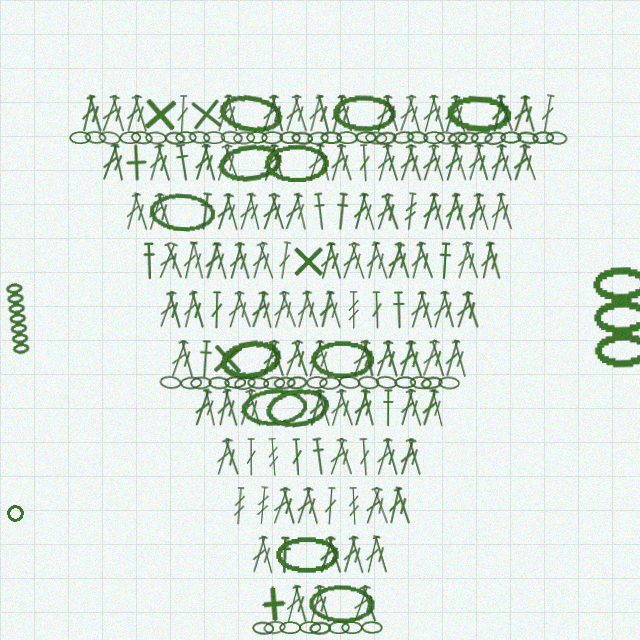chain: (216, 90, 286, 138), (217, 335, 285, 383), (263, 384, 331, 431), (216, 140, 285, 186), (148, 191, 217, 233), (445, 93, 512, 135), (240, 387, 308, 428), (308, 584, 376, 623), (332, 94, 397, 133), (264, 144, 330, 182), (275, 536, 340, 574), (310, 340, 374, 378), (233, 375, 257, 391), (483, 130, 507, 146), (420, 375, 443, 391), (98, 130, 121, 146), (374, 130, 397, 146), (516, 130, 539, 146), (447, 130, 469, 146), (263, 620, 286, 635), (159, 375, 182, 390), (338, 375, 361, 390), (357, 375, 380, 390), (375, 375, 398, 390), (409, 375, 432, 390), (84, 130, 107, 145), (130, 130, 153, 145), (188, 130, 211, 145), (220, 130, 243, 145), (392, 130, 415, 145), (406, 130, 429, 145), (470, 130, 493, 145), (286, 375, 308, 390), (273, 376, 296, 390), (545, 131, 568, 145), (252, 621, 274, 635), (309, 621, 331, 635), (180, 376, 202, 390), (190, 376, 212, 390), (208, 376, 230, 390), (247, 376, 269, 390), (263, 376, 285, 390), (319, 376, 341, 390), (438, 376, 460, 390), (145, 131, 167, 145), (164, 131, 186, 145), (233, 131, 255, 145), (291, 131, 313, 145), (307, 131, 329, 145), (365, 131, 387, 145), (435, 131, 457, 145), (457, 131, 479, 145), (279, 621, 301, 634), (299, 621, 321, 634), (328, 621, 350, 634), (341, 621, 363, 634), (361, 621, 383, 634), (224, 376, 246, 389), (306, 376, 328, 389), (394, 376, 416, 389), (69, 131, 91, 144), (119, 131, 141, 144), (175, 131, 197, 144), (203, 131, 225, 144), (246, 131, 268, 144), (261, 131, 283, 144), (279, 131, 301, 144), (320, 131, 342, 144), (336, 131, 358, 144), (355, 131, 377, 144), (423, 131, 445, 144), (500, 131, 522, 144), (532, 131, 554, 144)
double: (154, 241, 180, 281), (268, 486, 293, 526), (325, 437, 350, 477), (166, 339, 191, 379), (348, 339, 373, 379), (371, 339, 396, 379), (254, 241, 279, 281), (280, 192, 305, 232), (379, 192, 404, 232), (219, 143, 244, 183), (97, 94, 122, 134), (162, 241, 187, 280), (349, 584, 373, 624), (357, 584, 381, 624), (292, 486, 316, 526), (361, 486, 385, 526), (391, 486, 415, 526), (220, 437, 244, 477), (395, 437, 419, 477), (190, 388, 214, 428), (334, 388, 358, 428), (349, 388, 373, 428), (403, 388, 427, 428), (289, 339, 313, 379), (403, 339, 427, 379), (247, 290, 271, 330), (452, 290, 476, 330), (460, 290, 484, 330), (338, 241, 362, 281), (346, 241, 370, 281), (369, 241, 393, 281), (383, 241, 407, 281), (129, 192, 153, 232), (152, 192, 176, 232), (212, 192, 236, 232), (258, 192, 282, 232), (372, 192, 396, 232), (395, 143, 419, 183), (403, 143, 427, 183), (418, 143, 442, 183), (509, 143, 533, 183), (509, 94, 533, 134), (369, 486, 393, 525), (258, 339, 282, 378), (281, 339, 305, 378), (418, 339, 442, 378), (155, 290, 179, 329), (232, 290, 256, 329), (277, 290, 301, 329), (414, 241, 438, 280), (98, 143, 122, 182), (517, 143, 541, 182), (395, 94, 419, 133), (494, 94, 518, 133), (312, 584, 335, 624), (315, 535, 338, 575), (323, 535, 346, 575), (346, 535, 369, 575), (277, 486, 300, 526), (212, 437, 235, 477), (372, 437, 395, 477), (380, 437, 403, 477), (403, 437, 426, 477), (220, 388, 243, 428), (243, 388, 266, 428), (312, 388, 335, 428), (326, 388, 349, 428), (418, 388, 441, 428), (304, 339, 327, 379), (380, 339, 403, 379), (395, 339, 418, 379), (163, 290, 186, 330), (186, 290, 209, 330), (224, 290, 247, 330), (269, 290, 292, 330), (323, 290, 346, 330), (406, 290, 429, 330), (429, 290, 452, 330), (201, 241, 224, 281), (232, 241, 255, 281), (483, 241, 506, 281), (144, 192, 167, 232), (235, 192, 258, 232), (357, 192, 380, 232), (471, 192, 494, 232), (152, 143, 175, 183), (212, 143, 235, 183), (304, 143, 327, 183), (326, 143, 349, 183), (380, 143, 403, 183), (426, 143, 449, 183), (494, 143, 517, 183), (84, 94, 107, 134), (129, 94, 152, 134), (372, 94, 395, 134), (403, 94, 426, 134), (440, 94, 463, 134), (448, 94, 471, 134), (334, 437, 357, 476), (266, 339, 289, 378), (300, 290, 323, 329), (460, 241, 483, 280), (266, 192, 289, 231), (494, 192, 517, 231), (334, 143, 357, 182), (258, 94, 281, 133), (281, 94, 304, 133), (289, 94, 312, 133), (282, 584, 304, 624), (290, 584, 312, 624), (305, 584, 327, 624), (256, 535, 278, 575), (301, 486, 323, 526), (305, 388, 327, 428), (176, 339, 198, 379), (313, 339, 335, 379), (449, 339, 471, 379), (415, 290, 437, 330), (210, 241, 232, 281), (225, 241, 247, 281), (316, 241, 338, 281), (324, 241, 346, 281), (221, 192, 243, 232), (427, 192, 449, 232), (449, 192, 471, 232), (464, 192, 486, 232), (259, 143, 281, 183), (267, 143, 289, 183), (373, 143, 395, 183), (441, 143, 463, 183), (487, 143, 509, 183), (327, 94, 349, 134), (419, 94, 441, 134), (518, 94, 540, 134), (248, 535, 270, 574), (339, 535, 361, 574), (370, 535, 392, 574), (236, 388, 258, 427), (396, 388, 418, 427), (427, 339, 449, 378), (441, 339, 463, 378), (248, 241, 270, 280), (392, 241, 414, 280), (453, 241, 475, 280), (419, 192, 441, 231), (441, 192, 463, 231), (145, 143, 167, 182), (191, 143, 213, 182), (449, 143, 471, 182), (464, 143, 486, 182), (107, 94, 129, 133), (122, 94, 144, 133), (213, 94, 235, 133), (335, 94, 357, 133), (381, 94, 403, 133), (427, 94, 449, 133), (427, 388, 448, 428), (256, 290, 277, 330), (487, 192, 508, 232), (313, 94, 334, 134), (362, 535, 383, 574), (358, 388, 379, 427), (358, 339, 379, 378), (293, 290, 314, 329), (316, 290, 337, 329), (438, 290, 459, 329), (179, 241, 200, 280), (407, 241, 428, 280), (122, 192, 143, 231), (244, 192, 265, 231), (350, 192, 371, 231), (199, 143, 220, 182), (472, 143, 493, 182), (267, 94, 288, 133), (305, 94, 326, 133), (385, 486, 405, 525), (200, 388, 220, 427), (214, 388, 234, 427), (180, 290, 200, 329), (188, 241, 208, 280), (477, 241, 497, 280), (291, 192, 311, 231), (108, 143, 128, 182), (314, 143, 334, 182), (78, 94, 98, 133), (222, 94, 242, 133), (488, 94, 508, 133), (363, 241, 382, 280), (538, 94, 557, 133), (276, 241, 293, 280), (323, 487, 338, 525), (357, 438, 372, 476), (357, 144, 372, 182), (175, 95, 190, 133), (290, 438, 304, 476), (370, 291, 384, 329), (210, 291, 223, 329), (245, 438, 257, 476)
enseble_chain: (587, 265, 640, 374), (3, 282, 32, 357)
half_double: (173, 143, 193, 182), (196, 192, 215, 231), (310, 437, 328, 476), (311, 192, 329, 231), (333, 192, 351, 231), (197, 340, 214, 378), (391, 291, 407, 329), (141, 242, 157, 280), (437, 242, 453, 280), (277, 536, 292, 574), (381, 389, 395, 427)
noise: (4, 502, 26, 524)
single: (185, 93, 227, 135), (254, 584, 294, 624), (140, 94, 180, 134), (208, 339, 247, 378), (117, 143, 156, 182), (289, 242, 327, 280)
treble: (402, 192, 419, 231), (255, 486, 271, 525), (232, 487, 247, 525), (266, 438, 281, 476), (347, 487, 361, 525), (347, 291, 360, 329)
